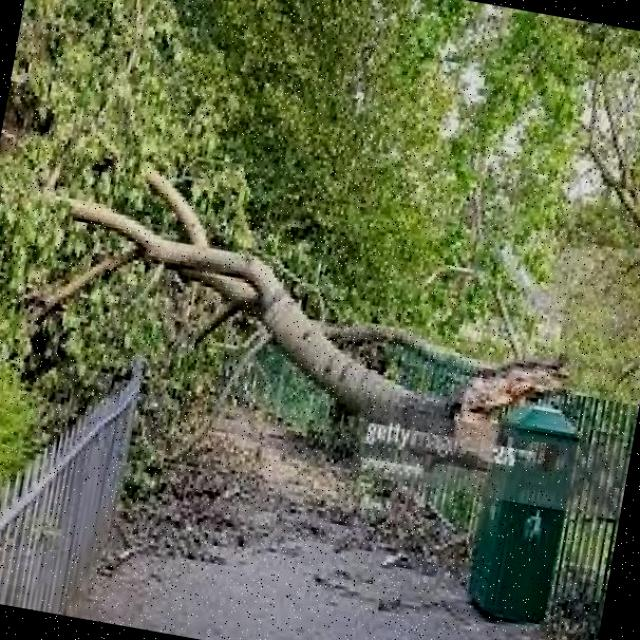fallen_object: (0, 128, 629, 499)
